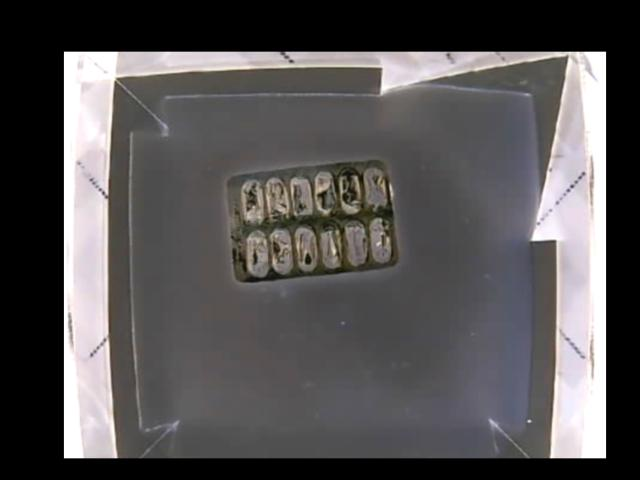Medicine: (226, 155, 398, 281)
